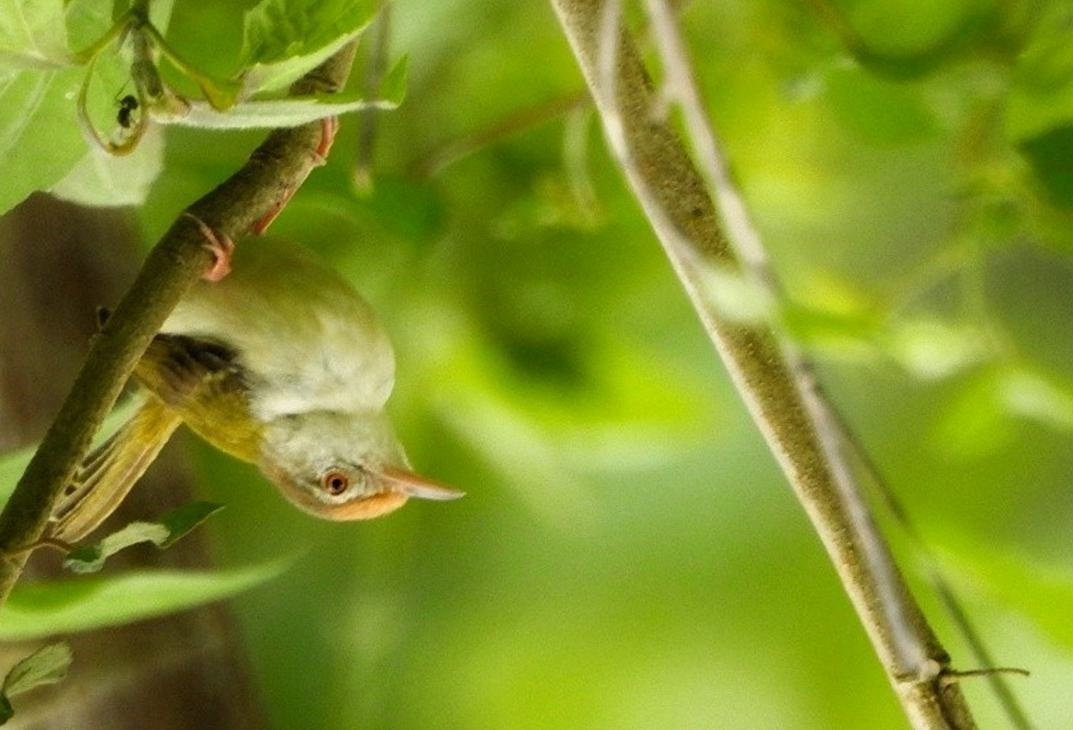tailorbird: (28, 171, 511, 609)
